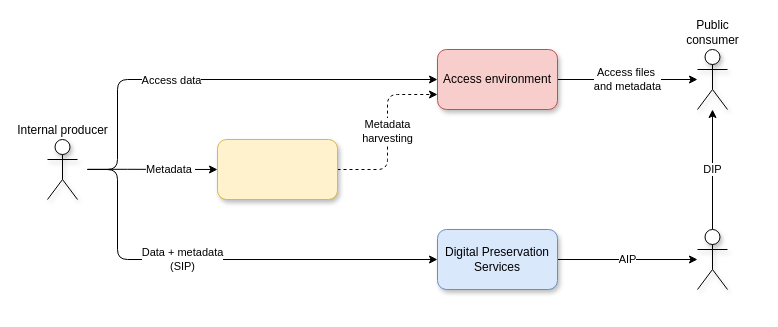
Image size: 778x327. Some labels were removed from this diagram. The shapes that lost their labels are listed below. From the top down, each one's centre as x and y in pixels, then its label:
At point 278,170: "Asset management systems".
At point 713,260: "Internal consumer".
